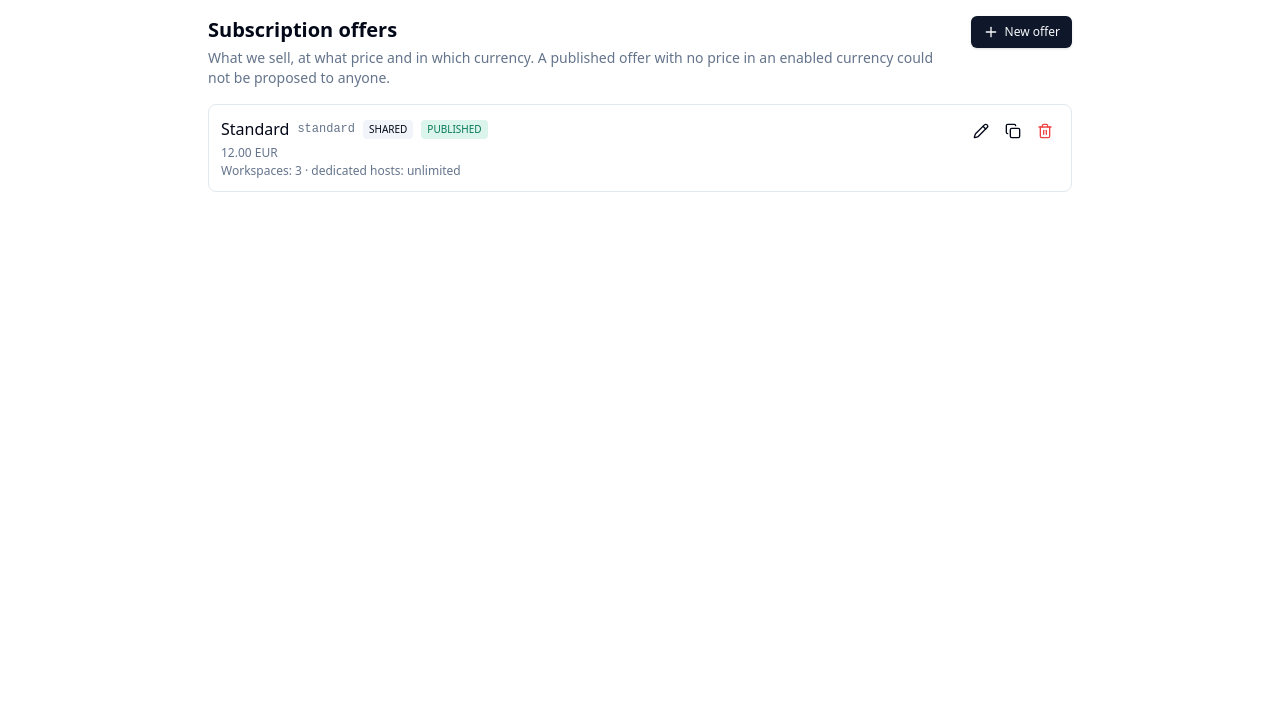
Test: AdminBillingOffers › ramene sur l'onglet Duree quand on publie sans terme
Step 1. Click the button named "Edit offer" → (981, 131), box [967, 117, 995, 145]
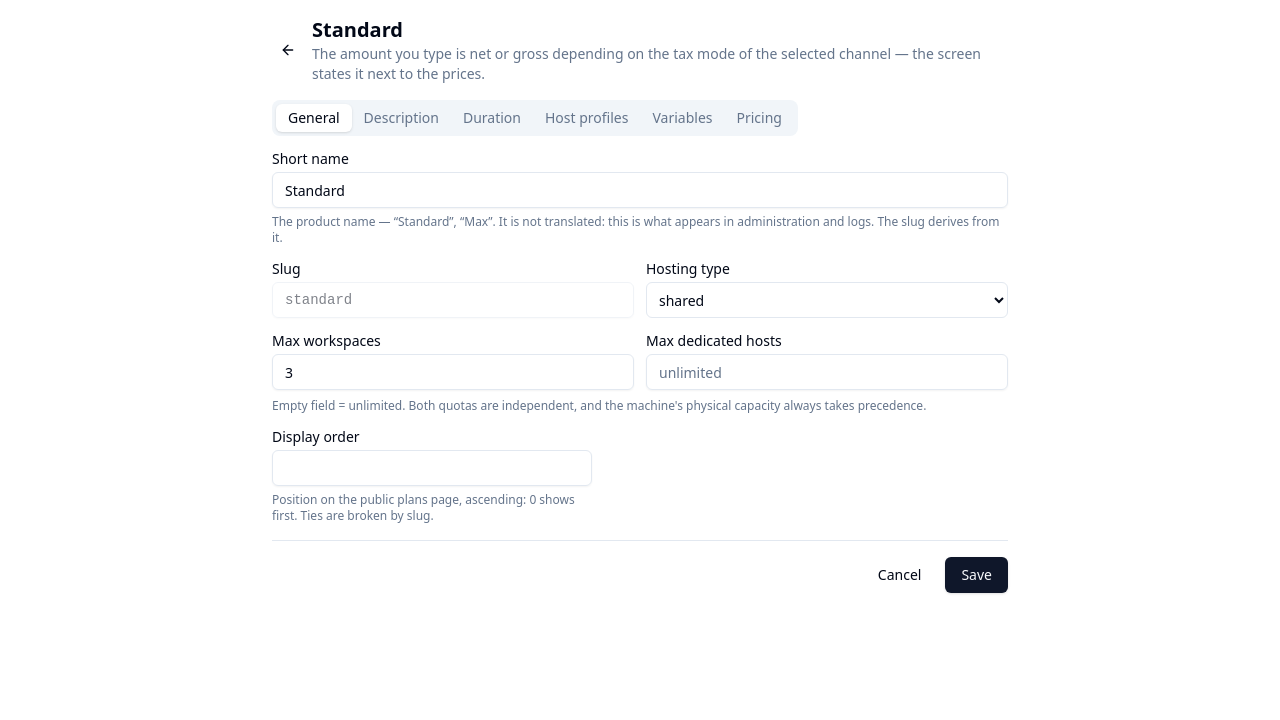
Step 2. Click the tab "Duration" → (492, 118), box [451, 104, 533, 132]
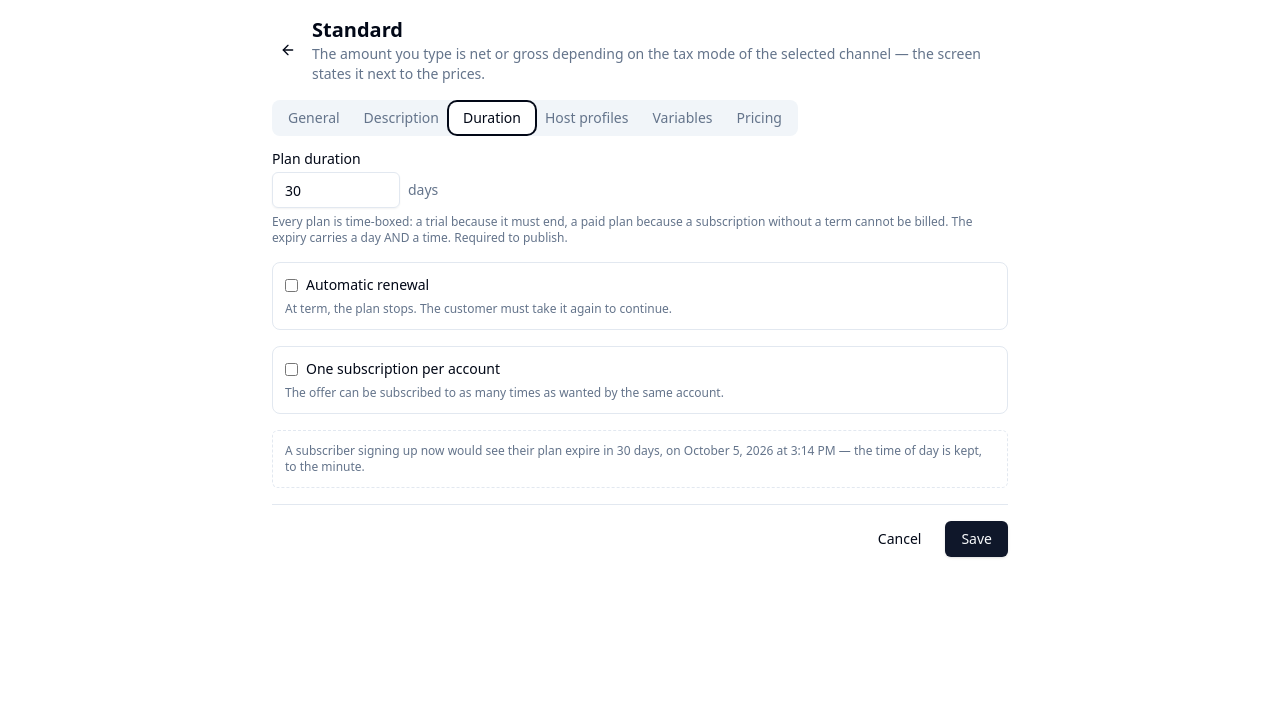
Step 3. Clear the number field labelled "Plan duration" → (336, 190), box [272, 172, 400, 208]
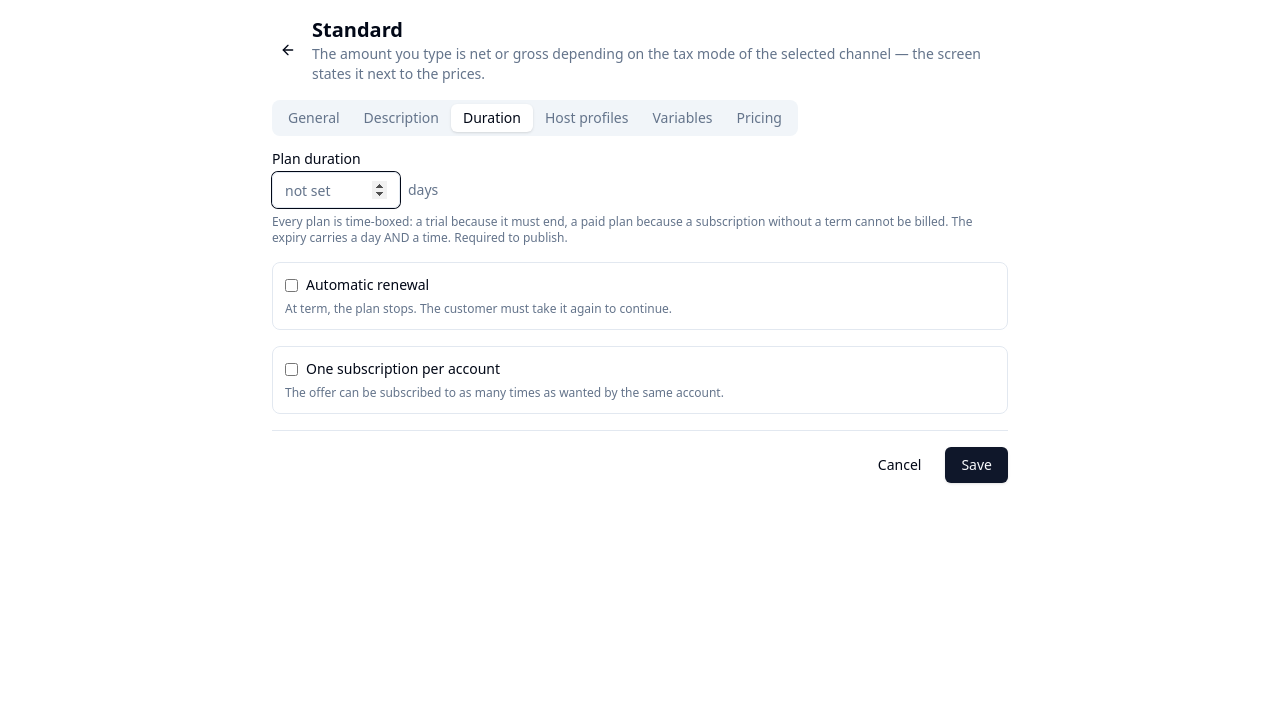
Step 4. Click the button "Save" → (977, 465), box [945, 447, 1008, 483]
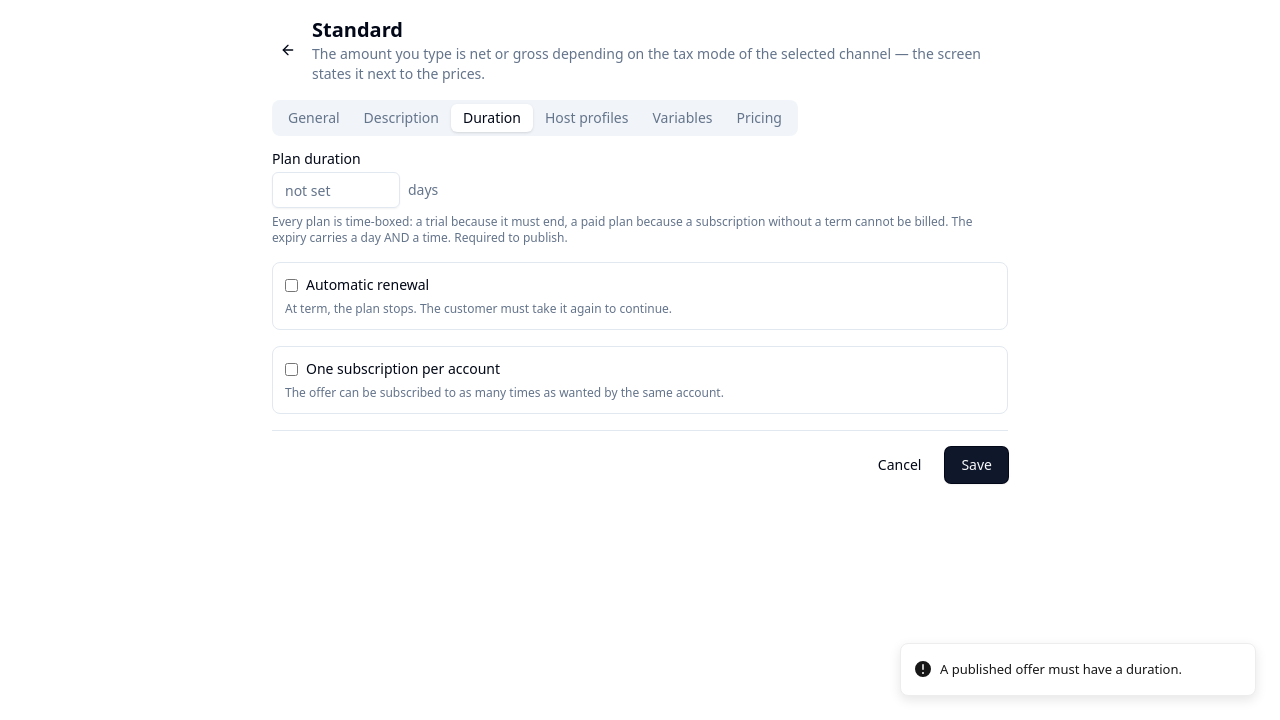
Check: the text "A published offer must have a duration." is shown, box [940, 660, 1182, 679]
